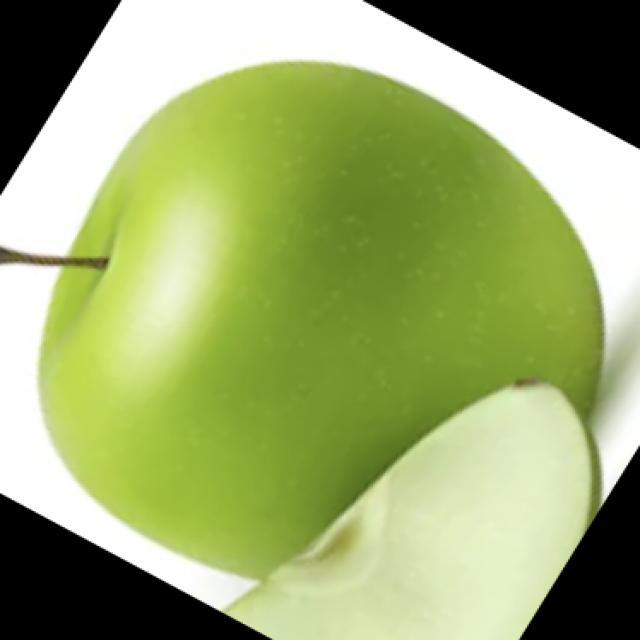Fresh Apple: (81, 55, 592, 565)
